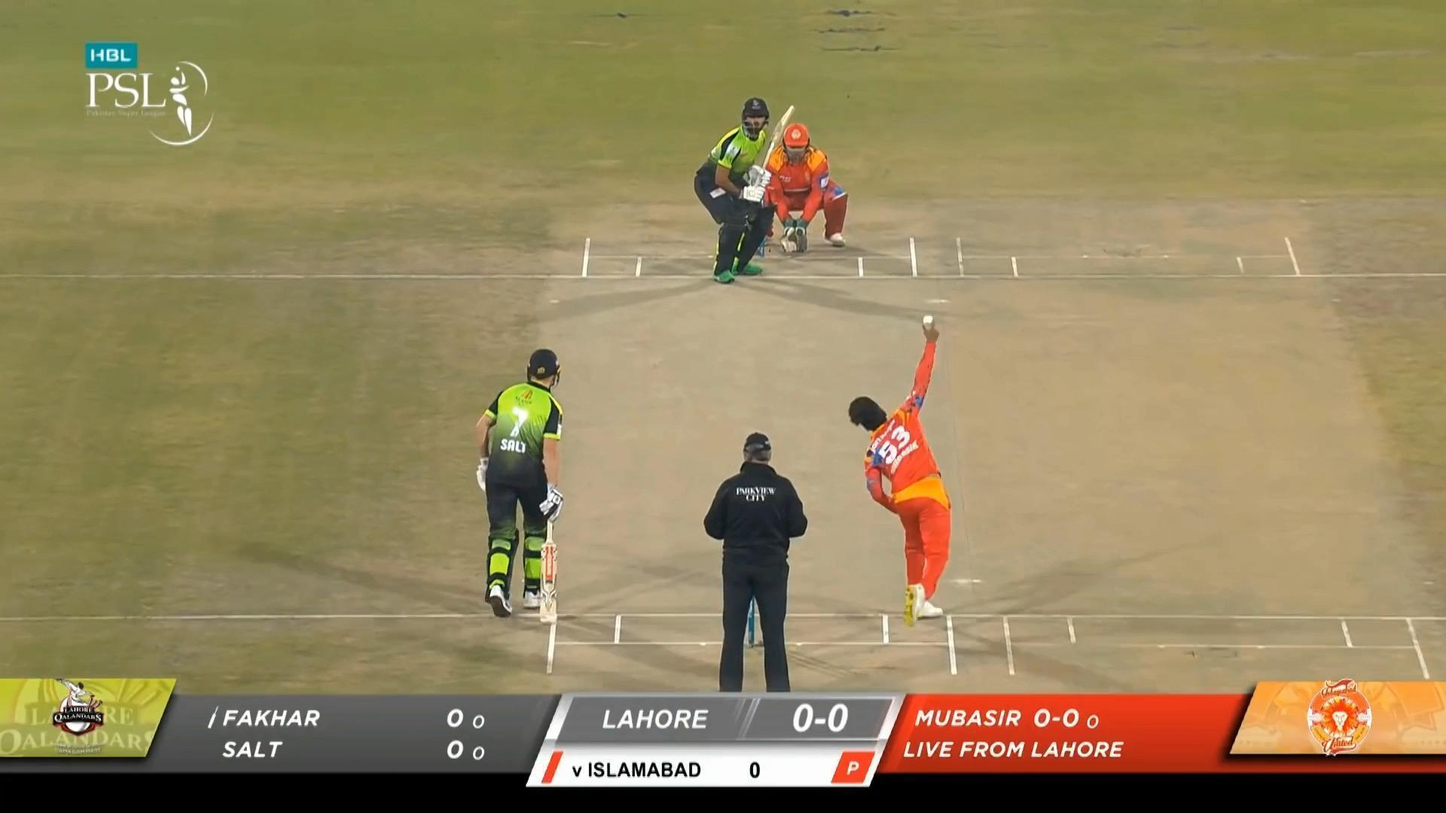BM 1: (692, 91, 798, 285)
BO: (848, 320, 953, 625)
